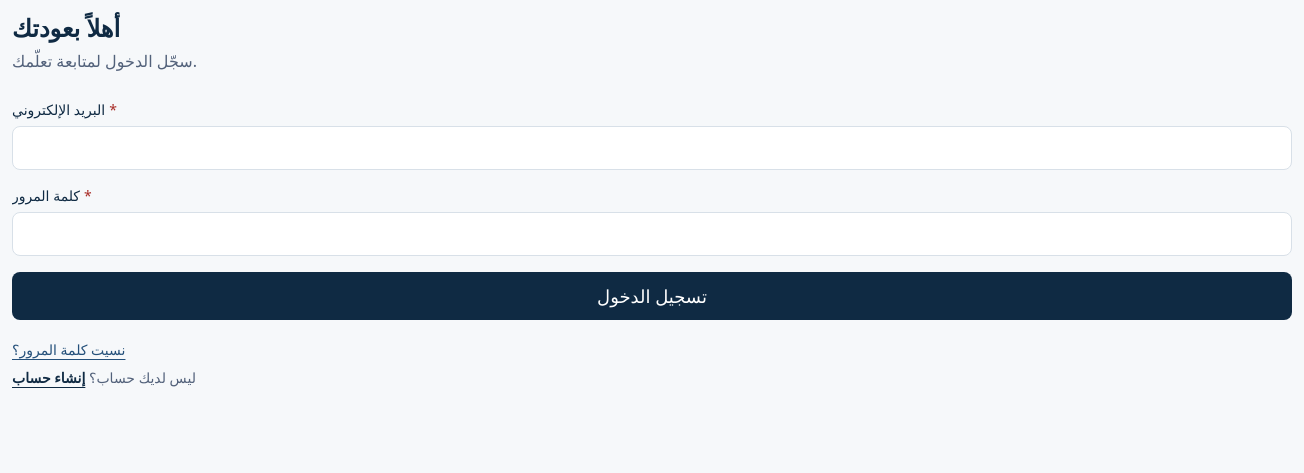
Scenario: LoginForm › shows a localised generic message for bad credentials
The width and height of the screenshot is (1304, 473).
Type "a@b.co" into the field labelled "البريد الإلكتروني*" at [652, 148], box 12,126 -> 1292,170
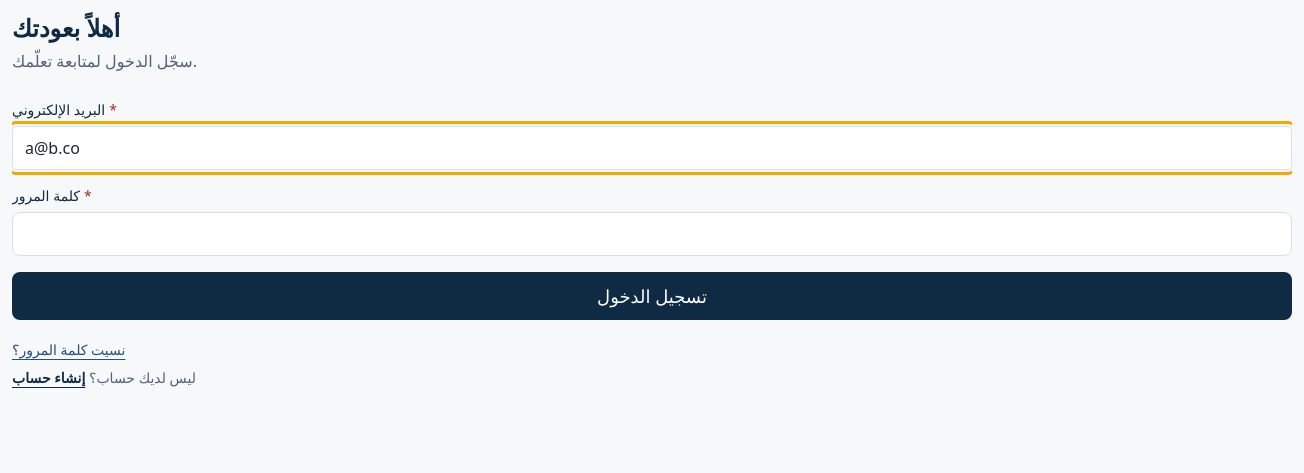
Type "wrong" into the password field labelled "كلمة المرور*" at [652, 234], box 12,212 -> 1292,256
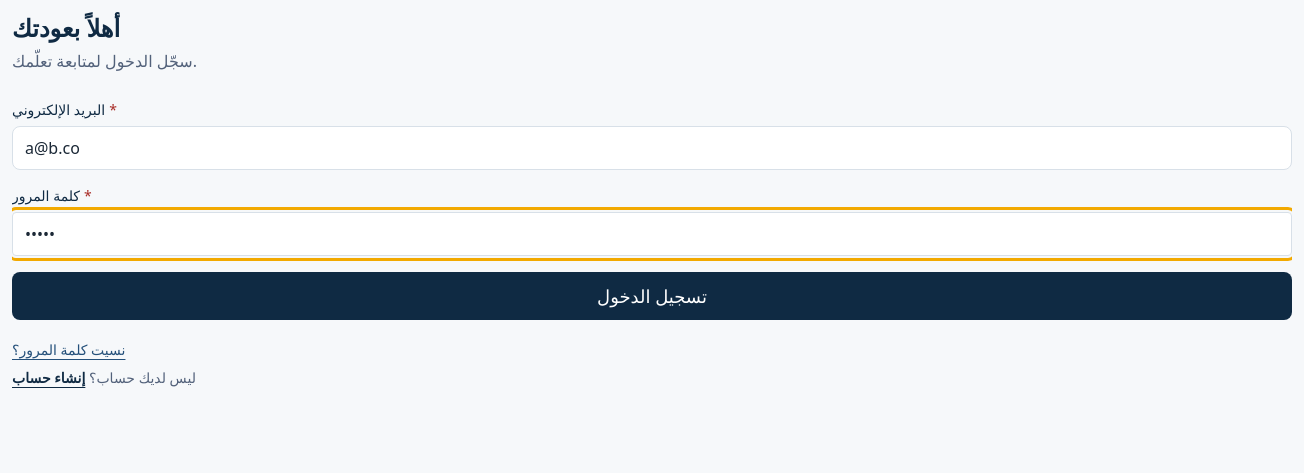
Click the button "تسجيل الدخول" at [652, 296], box 12,272 -> 1292,320
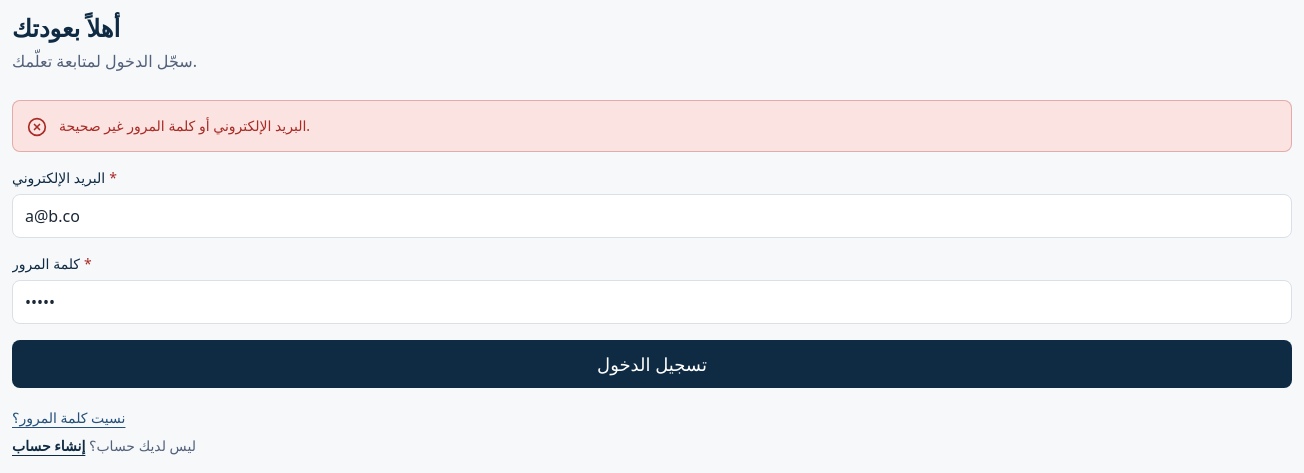
Result: the text "البريد الإلكتروني أو كلمة المرور غير صحيحة." is shown at 59,115 -> 310,137
